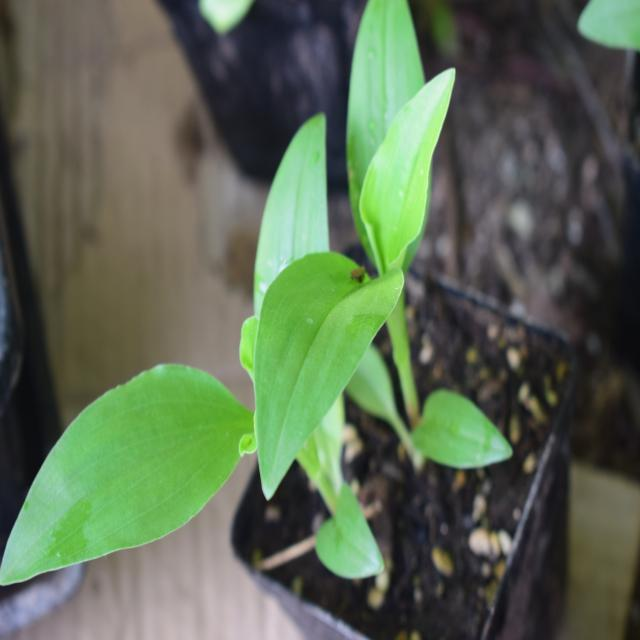Common Dayflower: (258, 3, 502, 521), (5, 359, 268, 587)
